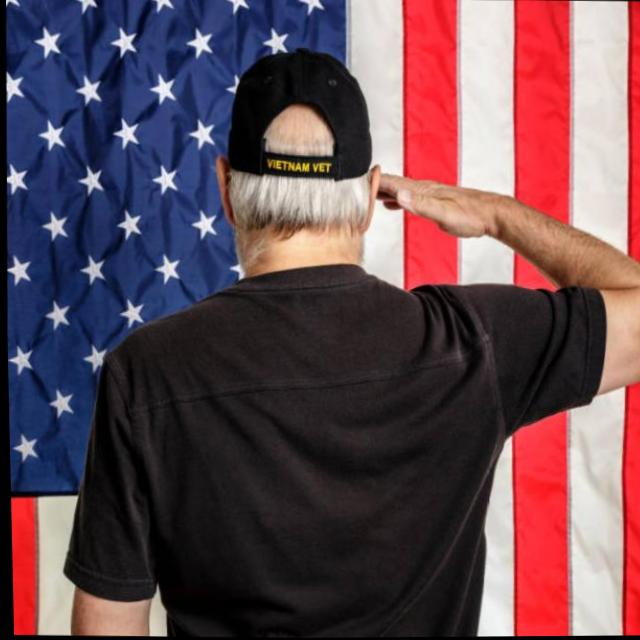no helmet: (199, 29, 394, 305)
